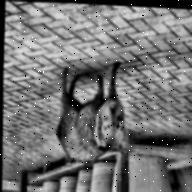boar: (42, 71, 145, 185)
